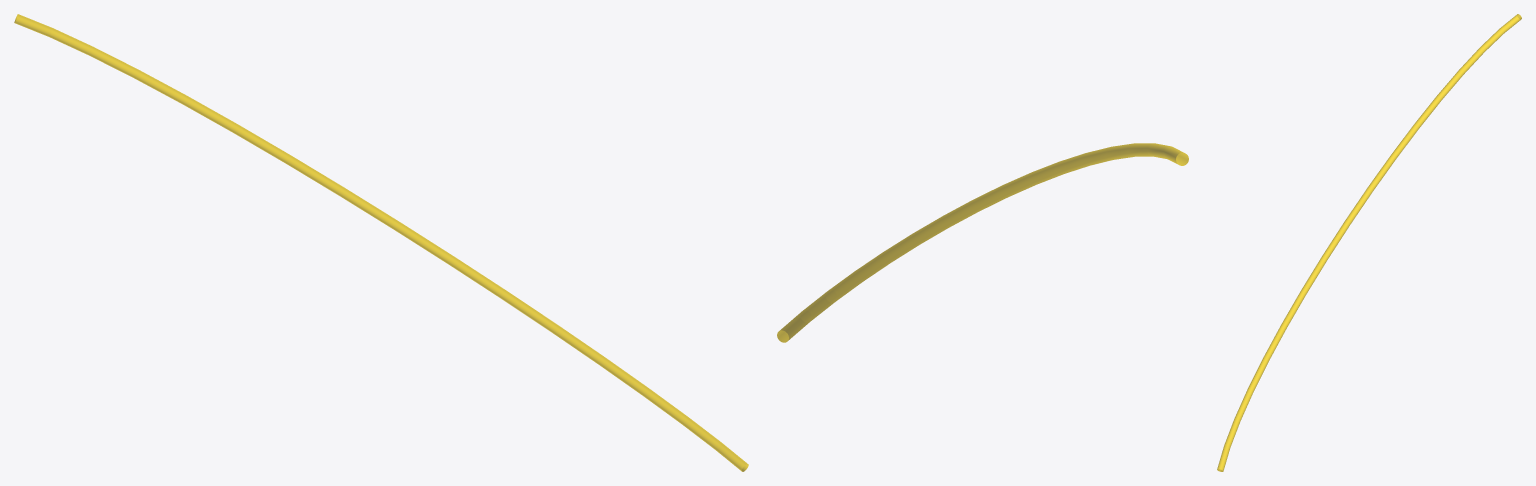
The model's file is Event_17758602_track_35.fbx.
3 views of the same model, side by side, from view 1: azimuth 30°, elevation 25°; view 2: azimuth 150°, elevation 25°; view 3: azimuth 270°, elevation 25° (orthographic). The views are drawn at different scales.
Parts seen in each view (by area): view 1: Model; view 2: Model; view 3: Model.
Boxes of the visible parts, x1,y1,x2,y2 form: Model: [14, 14, 748, 471]; Model: [777, 143, 1188, 342]; Model: [1217, 14, 1521, 471].
Bounding box in the file's own units: 2.44 × 1.9 × 1.82.
